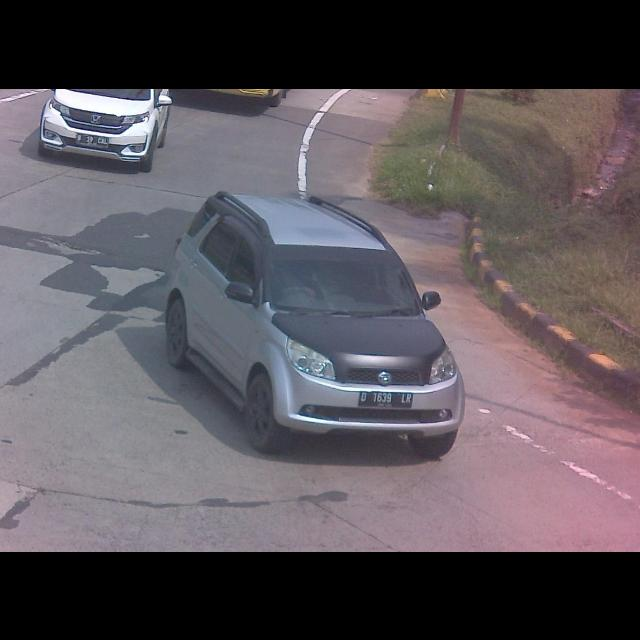plate: (358, 388, 417, 408)
